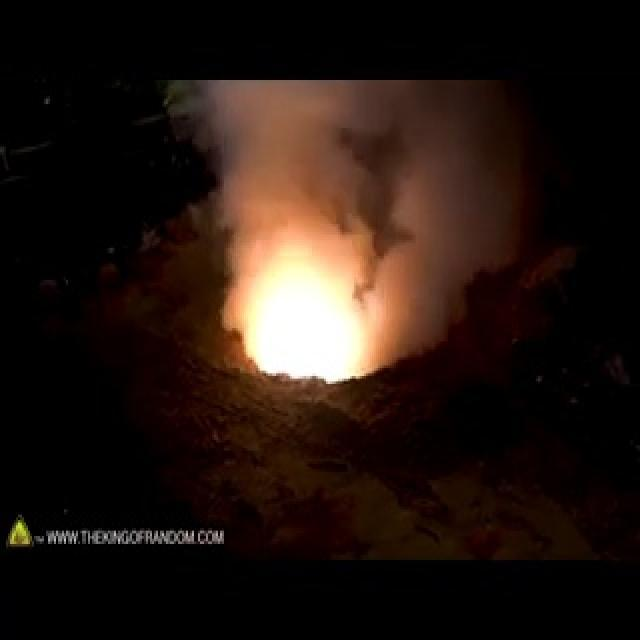fire: (226, 189, 380, 368)
